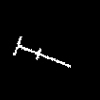double_crochet: (13, 37, 70, 67)
